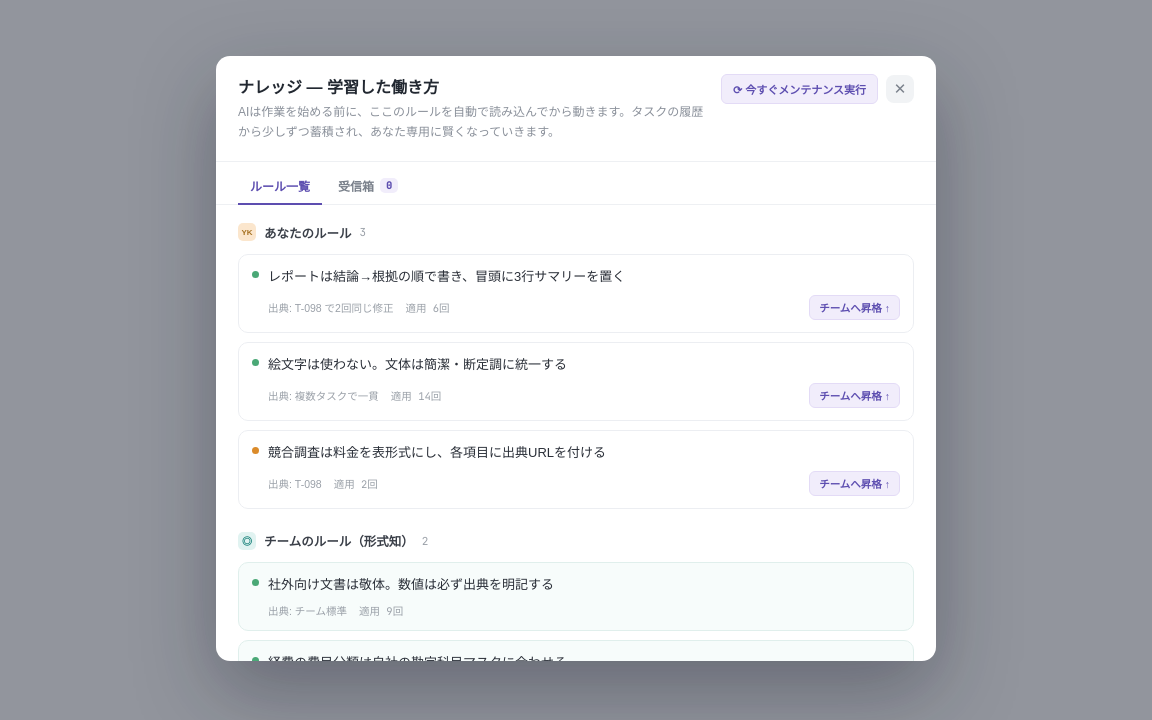
Test: KnowledgeOverlay: チームへ昇格（§1.8 promoteRule） › 昇格で POST /rules/:id/promote → scope=team になりチームのセクションへ移動（NEW 再表示）
Step 1. Click the button "チームへ昇格 ↑" in the row of "T-098 で2回同じ修正" → {"x": 855, "y": 307}, box [809,295,900,320]
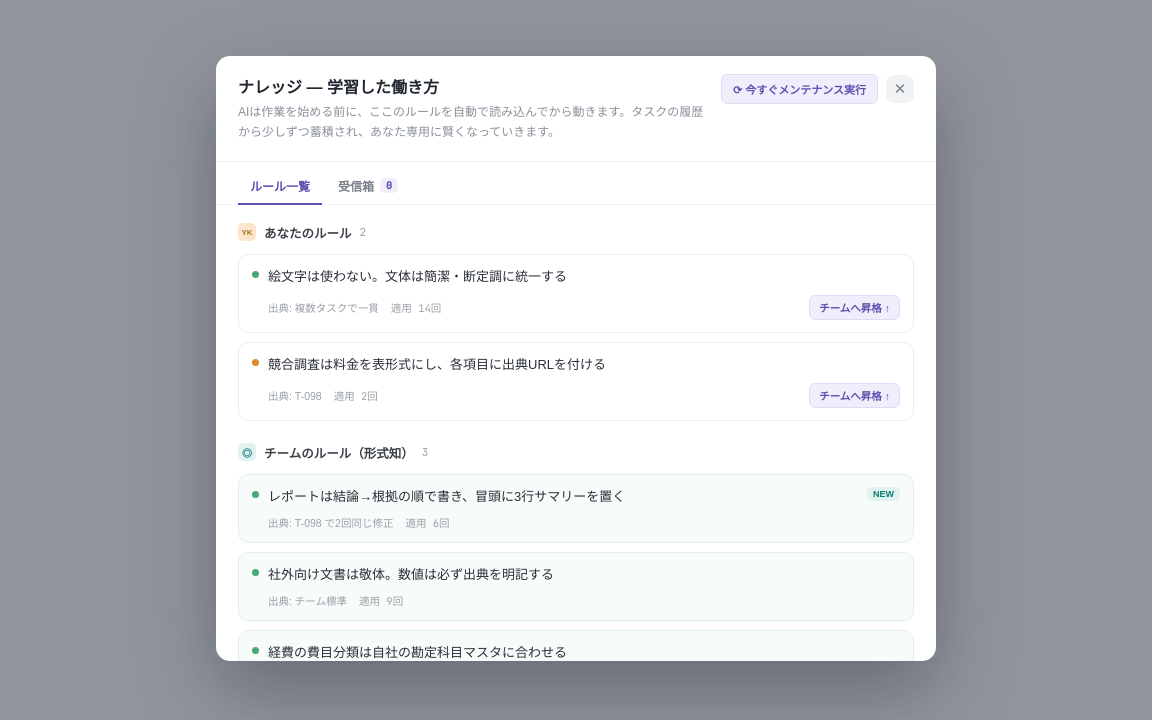
expect the text "NEW" is shown: met, box [867,487,900,501]
